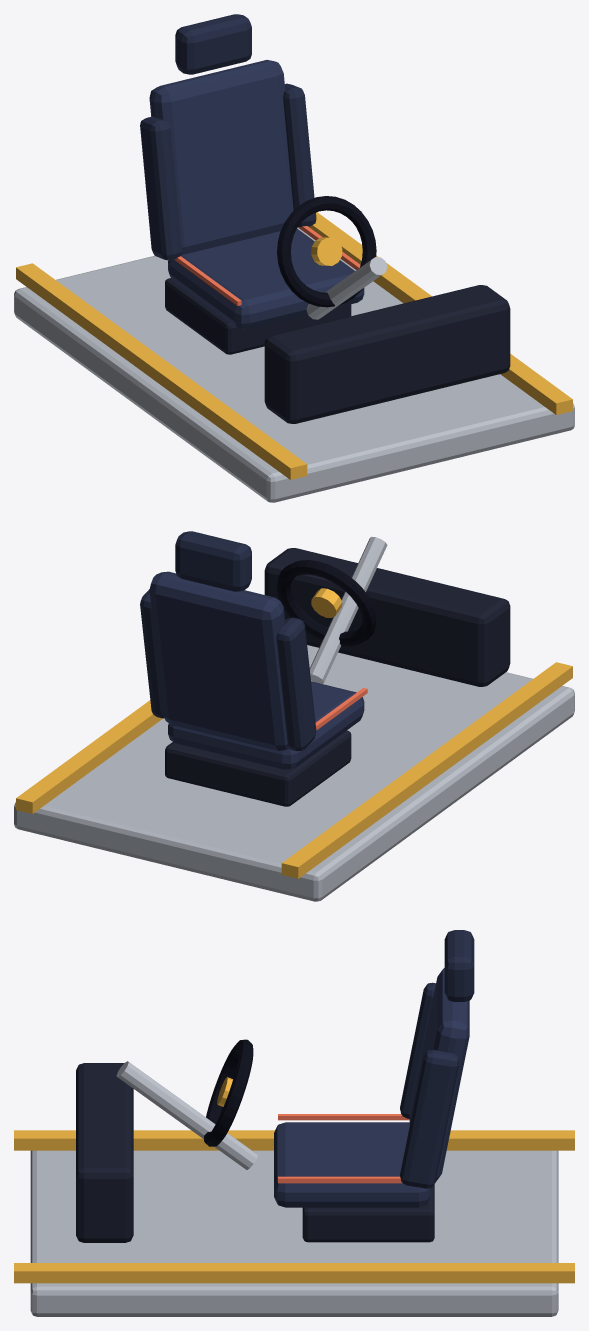
File: car_seat.glb
3 views of the same model, one above another, from view 1: azimuth 30°, elevation 25°; view 2: azimuth 150°, elevation 25°; view 3: azimuth 270°, elevation 25° (orthographic). The views are drawn at different scales.
Visible parts, largest first — view 1: sled, dash, back, cushion, rail-1, bolster-1, riser, rail1, headrest, wheel, bolster1, column (+1 smaller); view 2: sled, back, dash, rail-1, riser, cushion, rail1, bolster-1, headrest, wheel, column, bolster1 (+1 smaller); view 3: sled, rail1, cushion, dash, rail-1, bolster1, riser, back, column, wheel, headrest, bolster-1 (+2 smaller).
Part boxes in pixels (x1=…): sled: x1=14, y1=227, x2=574, y2=502; dash: x1=264, y1=285, x2=510, y2=423; back: x1=149, y1=60, x2=293, y2=254; cushion: x1=168, y1=228, x2=364, y2=329; rail-1: x1=16, y1=263, x2=307, y2=479; bolster-1: x1=140, y1=116, x2=182, y2=260; riser: x1=165, y1=278, x2=351, y2=354; rail1: x1=309, y1=212, x2=572, y2=414; headrest: x1=175, y1=14, x2=251, y2=74; wheel: x1=277, y1=196, x2=376, y2=307; bolster1: x1=283, y1=83, x2=316, y2=227; column: x1=306, y1=257, x2=387, y2=319; sled: x1=14, y1=645, x2=574, y2=901; back: x1=149, y1=571, x2=288, y2=750; dash: x1=264, y1=548, x2=510, y2=686; rail-1: x1=281, y1=662, x2=572, y2=878; riser: x1=165, y1=730, x2=351, y2=806; cushion: x1=168, y1=681, x2=364, y2=769; rail1: x1=16, y1=700, x2=162, y2=813; bolster-1: x1=276, y1=617, x2=316, y2=751; headrest: x1=175, y1=531, x2=251, y2=591; wheel: x1=277, y1=560, x2=376, y2=646; column: x1=309, y1=536, x2=387, y2=683; bolster1: x1=140, y1=589, x2=163, y2=718; sled: x1=30, y1=1150, x2=558, y2=1316; rail1: x1=14, y1=1263, x2=574, y2=1283; cushion: x1=274, y1=1122, x2=430, y2=1207; dash: x1=76, y1=1063, x2=133, y2=1242; rail-1: x1=14, y1=1130, x2=574, y2=1150; bolster1: x1=400, y1=1049, x2=459, y2=1188; riser: x1=302, y1=1184, x2=434, y2=1242; back: x1=409, y1=968, x2=469, y2=1181; column: x1=116, y1=1061, x2=257, y2=1169; wheel: x1=204, y1=1039, x2=253, y2=1146; headrest: x1=444, y1=930, x2=474, y2=1001; bolster-1: x1=400, y1=982, x2=435, y2=1118.
Size of the model in its own units: 2.2 by 2 by 3.4.
